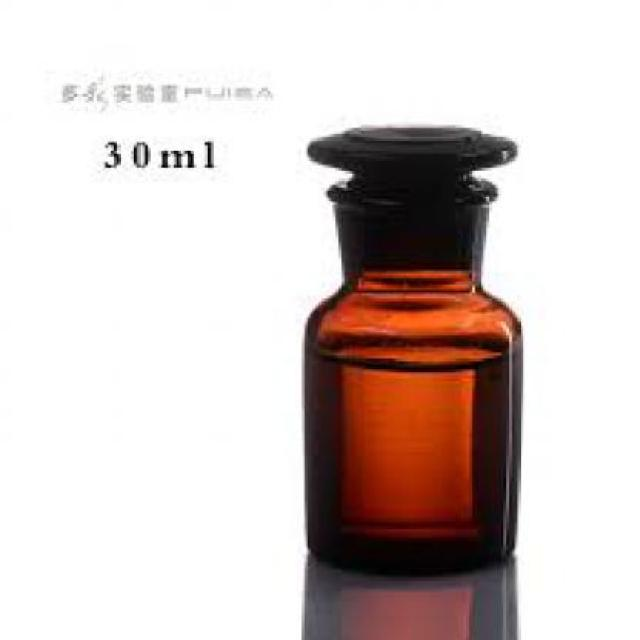kaca: (298, 123, 520, 579)
